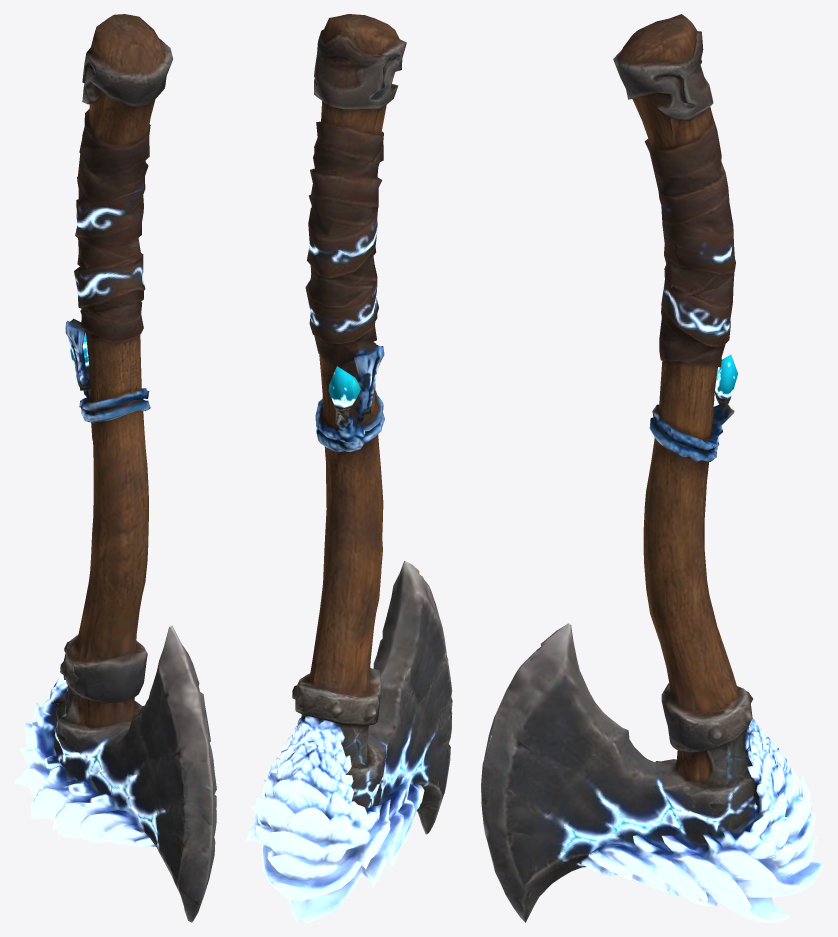
File: axe_azure.glb
3 views of the same model, side by side, from view 1: azimuth 30°, elevation 25°; view 2: azimuth 150°, elevation 25°; view 3: azimuth 270°, elevation 25° (orthographic). The views are drawn at different scales.
Parts seen in each view (by area): view 1: tripo_node_8a457699-d0bb-4db2-8e0e-3338f9e87d5a; view 2: tripo_node_8a457699-d0bb-4db2-8e0e-3338f9e87d5a; view 3: tripo_node_8a457699-d0bb-4db2-8e0e-3338f9e87d5a.
Boxes of the visible parts, x1,y1,x2,y2 form: tripo_node_8a457699-d0bb-4db2-8e0e-3338f9e87d5a: (14, 14, 216, 922); tripo_node_8a457699-d0bb-4db2-8e0e-3338f9e87d5a: (245, 14, 452, 922); tripo_node_8a457699-d0bb-4db2-8e0e-3338f9e87d5a: (481, 14, 823, 922).
Size of the model in its own units: 0.2041 by 1.35 by 0.4667.
1 material, 1 textured.
